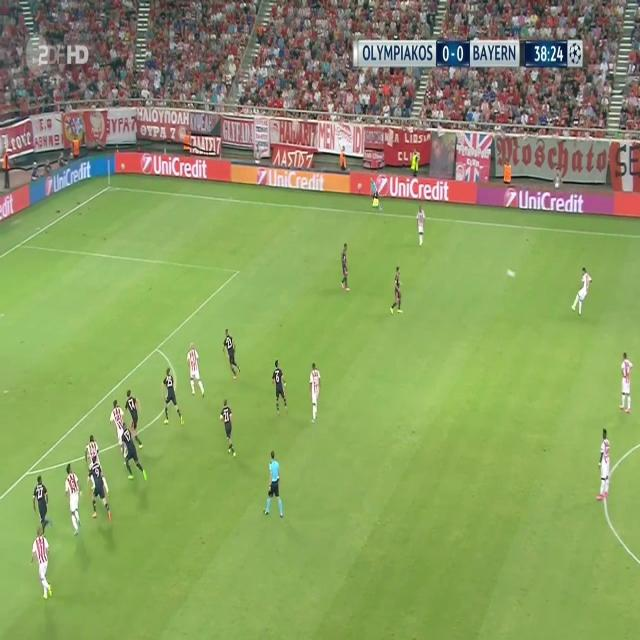Ball: (505, 264, 519, 280)
Player: (86, 456, 114, 524), (121, 422, 149, 484), (30, 529, 54, 601), (160, 367, 187, 427), (64, 463, 84, 538), (184, 342, 209, 402), (32, 473, 54, 538), (594, 428, 612, 504), (123, 384, 144, 448), (569, 263, 594, 316), (219, 397, 238, 462), (270, 357, 290, 415), (618, 349, 635, 416), (222, 326, 242, 382), (307, 359, 322, 426), (339, 240, 355, 295), (389, 266, 404, 317), (109, 398, 124, 447), (415, 203, 427, 249), (84, 432, 100, 462)
Referee: (262, 449, 284, 520), (367, 174, 386, 215)
